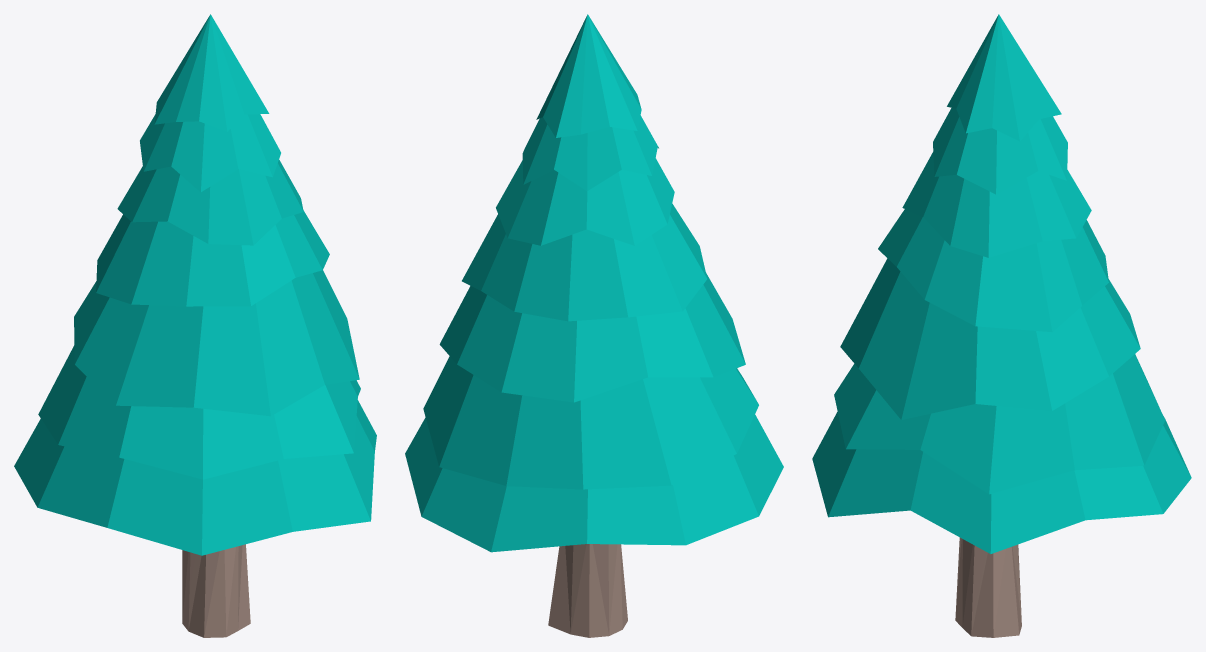
File: Tree.fbx
The picture shows the model from 3 angles, left to right: view 1: azimuth 30°, elevation 25°; view 2: azimuth 150°, elevation 25°; view 3: azimuth 270°, elevation 25°; orthographic projection.
Parts seen in each view (by area): view 1: model; view 2: model; view 3: model.
Boxes of the visible parts, bbox=[...] form: model: bbox=[14, 14, 376, 637]; model: bbox=[405, 14, 783, 637]; model: bbox=[812, 14, 1191, 637].
Bounding box in the file's own units: 149 × 259 × 146.
